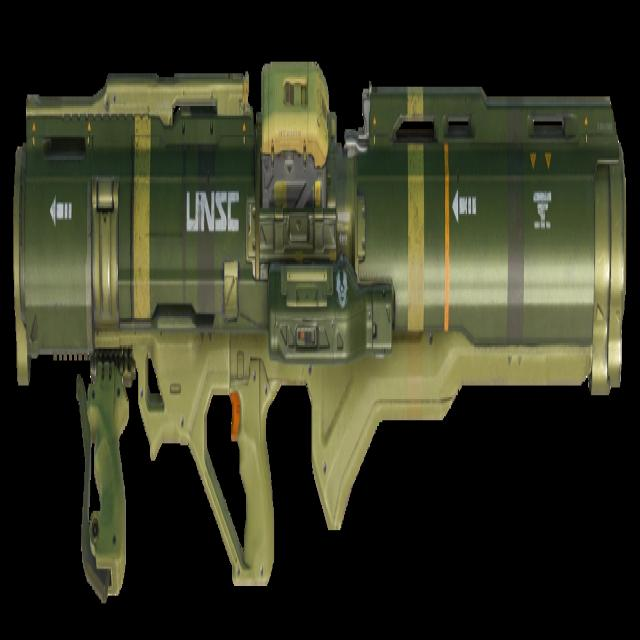bazooka: (20, 67, 628, 613)
